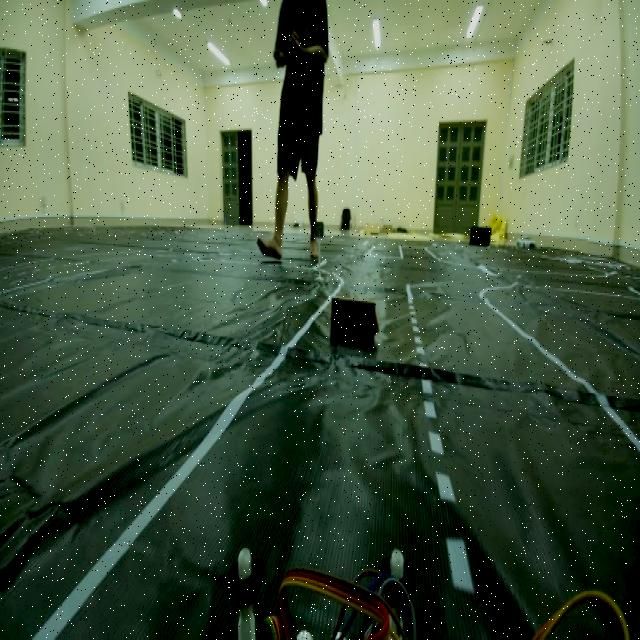roadblock: (325, 288, 384, 364)
